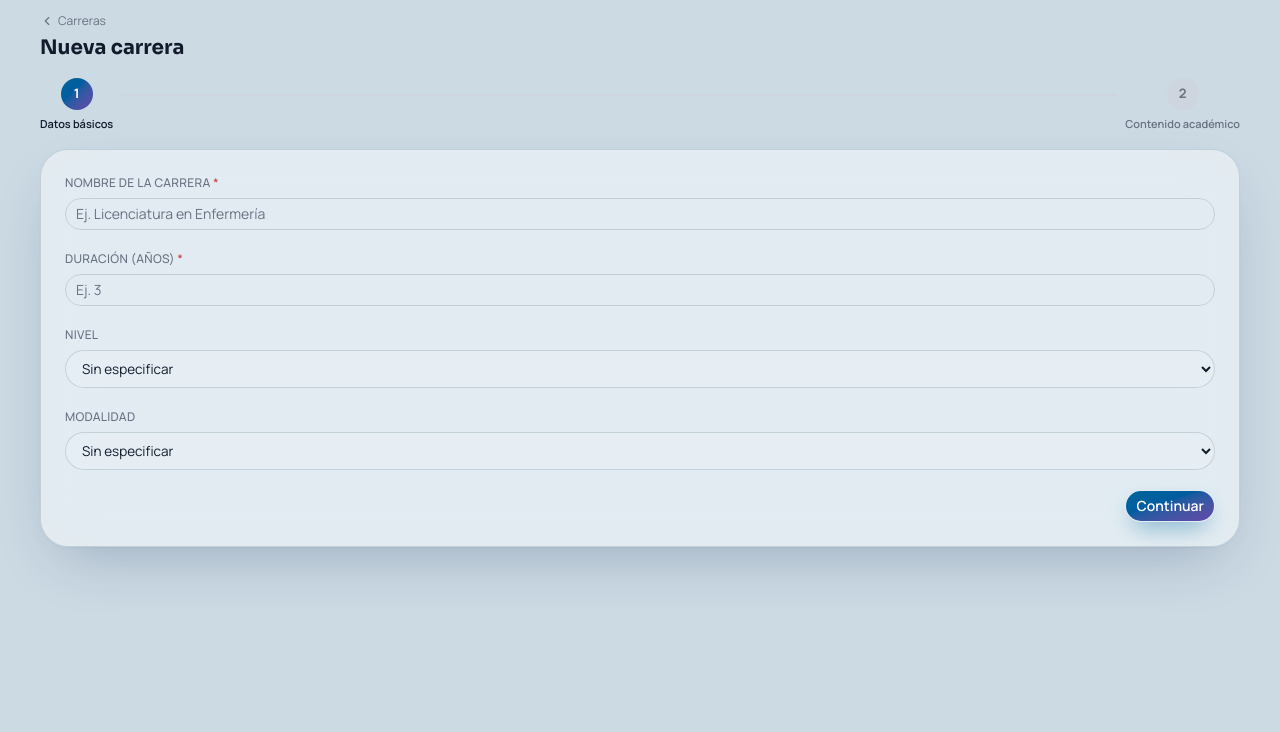
Test: CarreraWizard › marks the current step and lets the user go back to a visited step
The width and height of the screenshot is (1280, 732).
Step 1. Type "Enfermería" into the field with placeholder "Ej. Licenciatura en Enfermería" → coordinates (640, 214), box [65,198,1215,230]
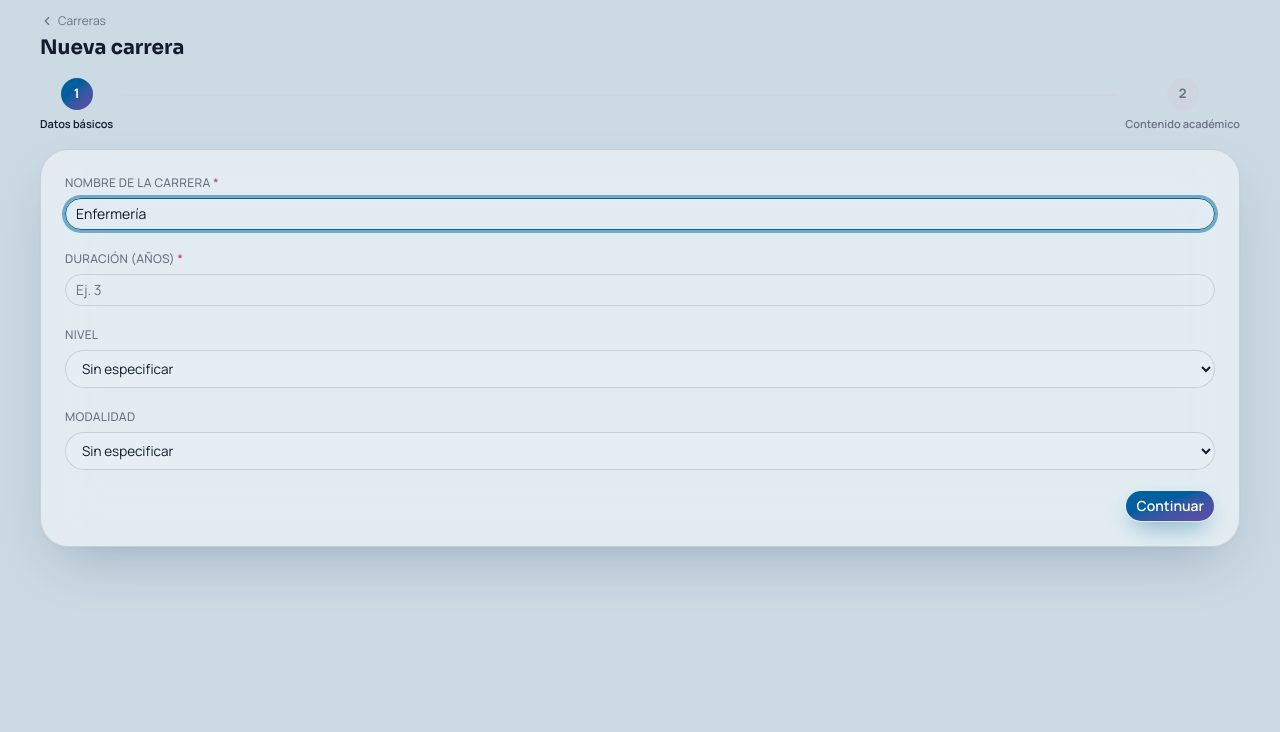
Step 2. Type "3" into the number field with placeholder "Ej. 3" → coordinates (640, 290), box [65,274,1215,306]
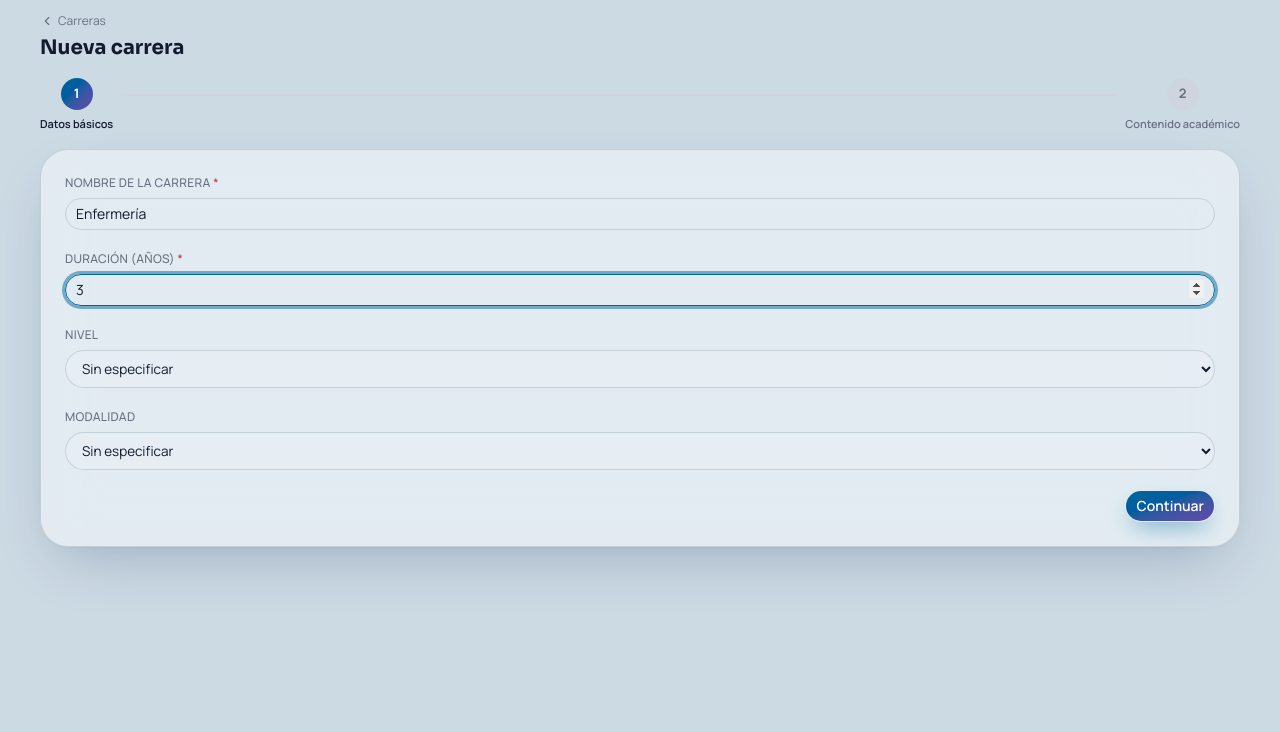
Step 3. Click the button "Continuar" → coordinates (1170, 506), box [1125,490,1215,522]
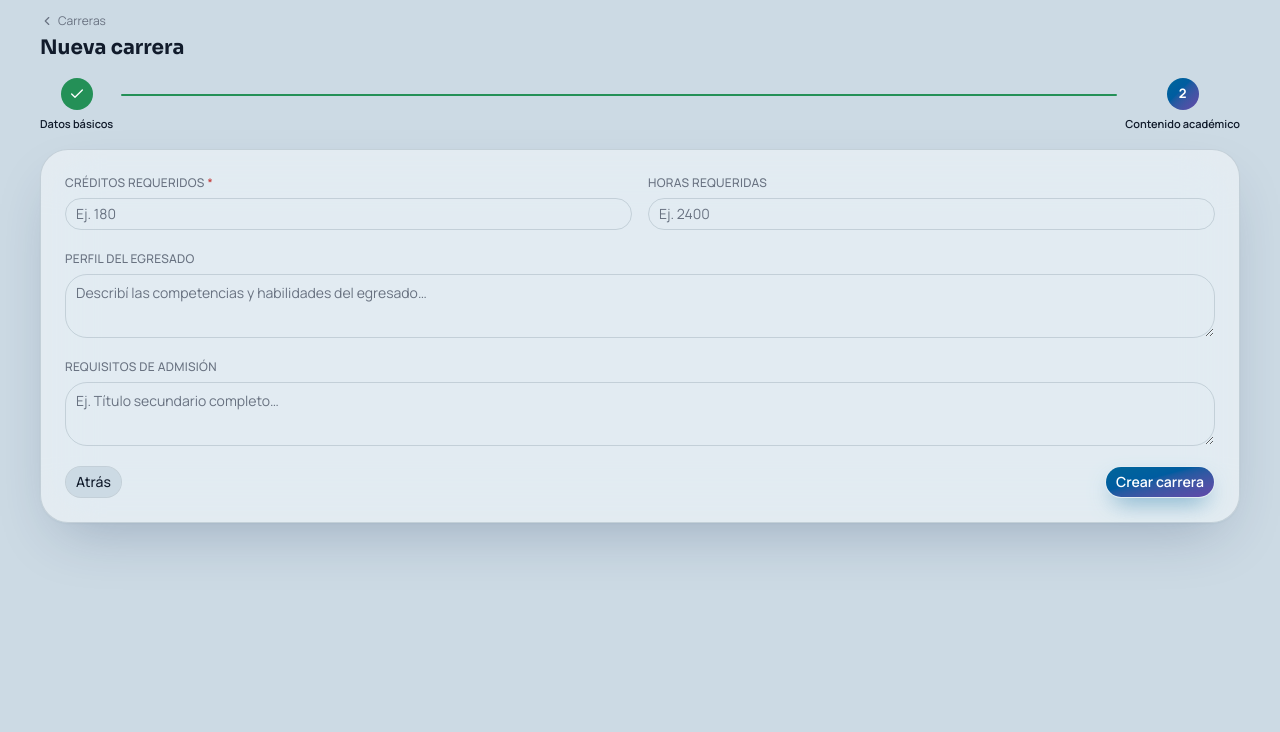
Now the button "2 Contenido académico" is marked as current, box [1125,78,1240,132]
Step 4. Click the button "Datos básicos" → coordinates (77, 105), box [40,78,113,132]
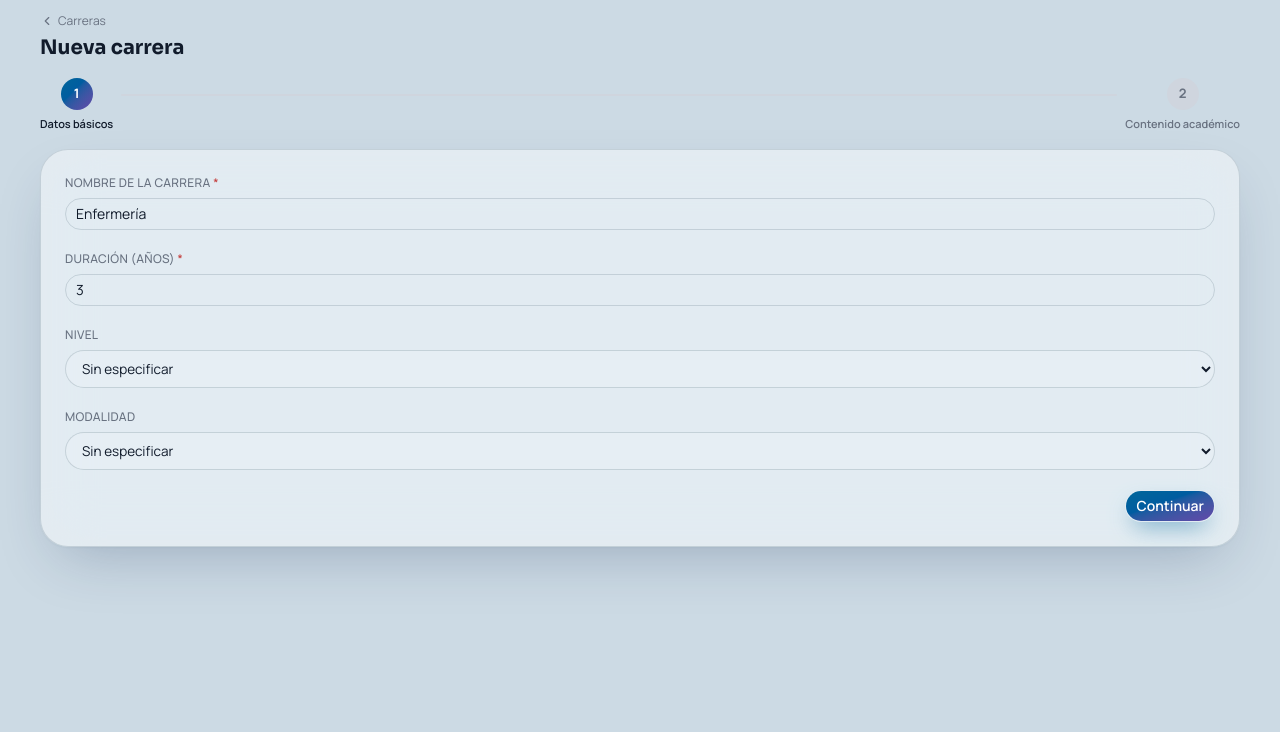
Now the field with placeholder "Ej. Licenciatura en Enfermería" holds "Enfermería", box [65,198,1215,230]
